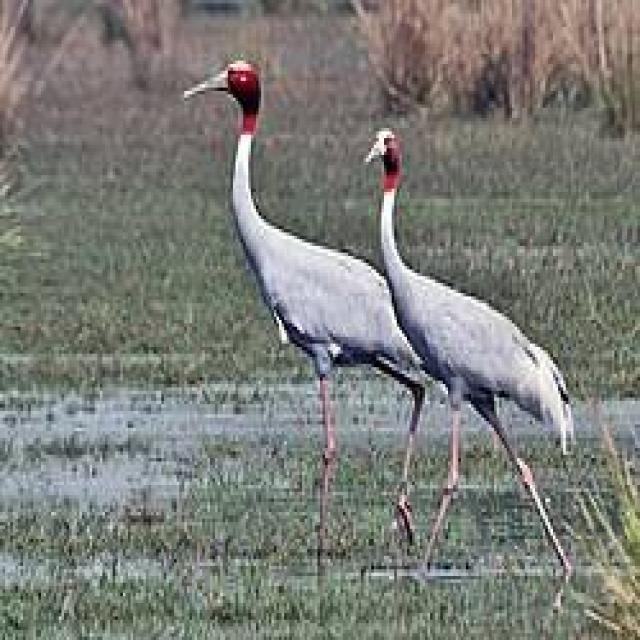bird: (202, 43, 448, 570), (344, 106, 593, 598)
